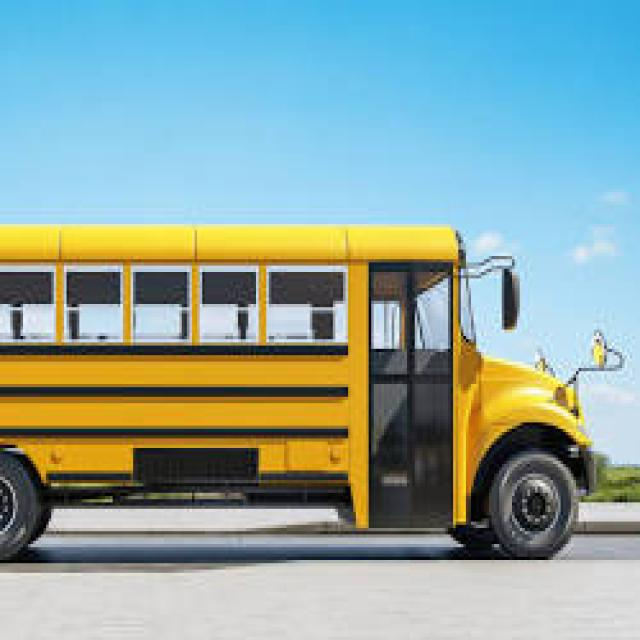kendaraan: (7, 105, 630, 608)
